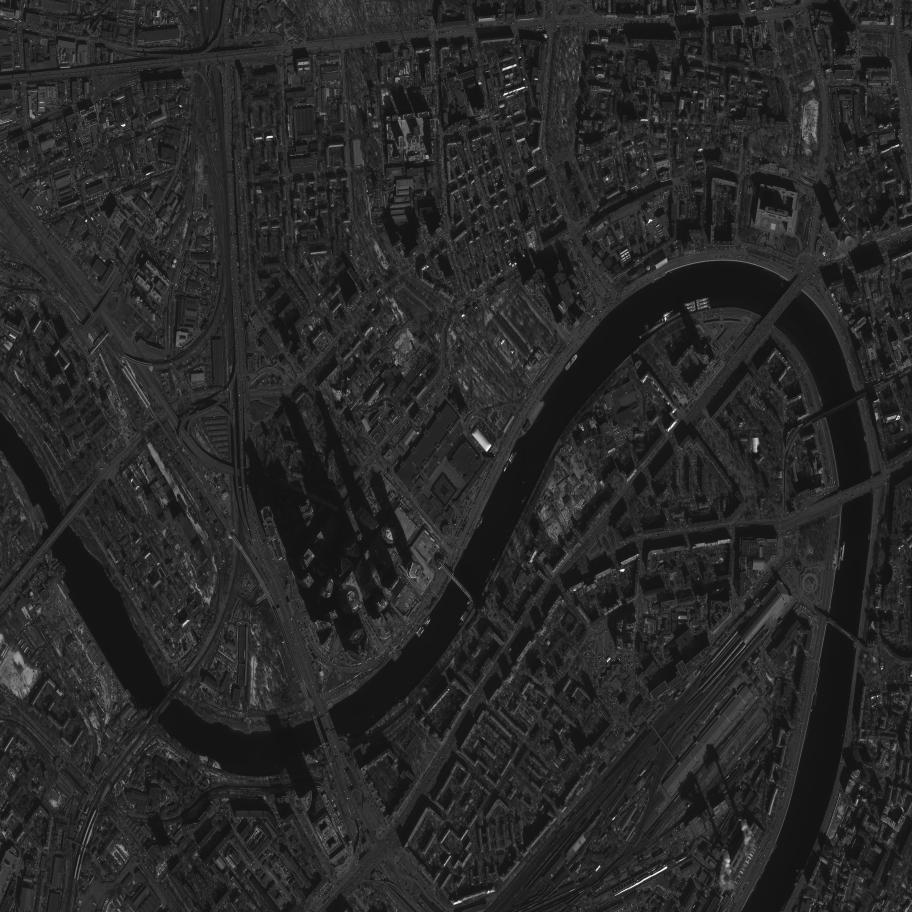ship: (564, 354, 578, 371), (33, 505, 44, 523), (36, 503, 47, 520), (681, 300, 696, 308), (662, 309, 675, 318), (681, 304, 697, 311), (653, 317, 665, 326), (682, 307, 697, 314), (695, 296, 710, 303), (510, 451, 517, 465), (696, 300, 711, 306), (697, 304, 711, 310), (422, 616, 430, 626), (415, 625, 423, 635), (841, 541, 845, 561), (43, 519, 50, 530), (417, 629, 425, 638), (459, 611, 466, 621), (503, 462, 509, 473), (417, 627, 424, 636), (462, 611, 468, 621), (508, 452, 514, 461), (425, 618, 431, 627), (41, 521, 46, 529), (424, 620, 429, 626), (510, 456, 514, 463), (645, 322, 649, 329), (480, 518, 483, 525), (644, 325, 648, 330)
storage-tank: (786, 26, 796, 40), (647, 265, 650, 270), (172, 264, 175, 268), (173, 259, 176, 263), (577, 291, 579, 294), (626, 802, 628, 804), (628, 800, 629, 803)
